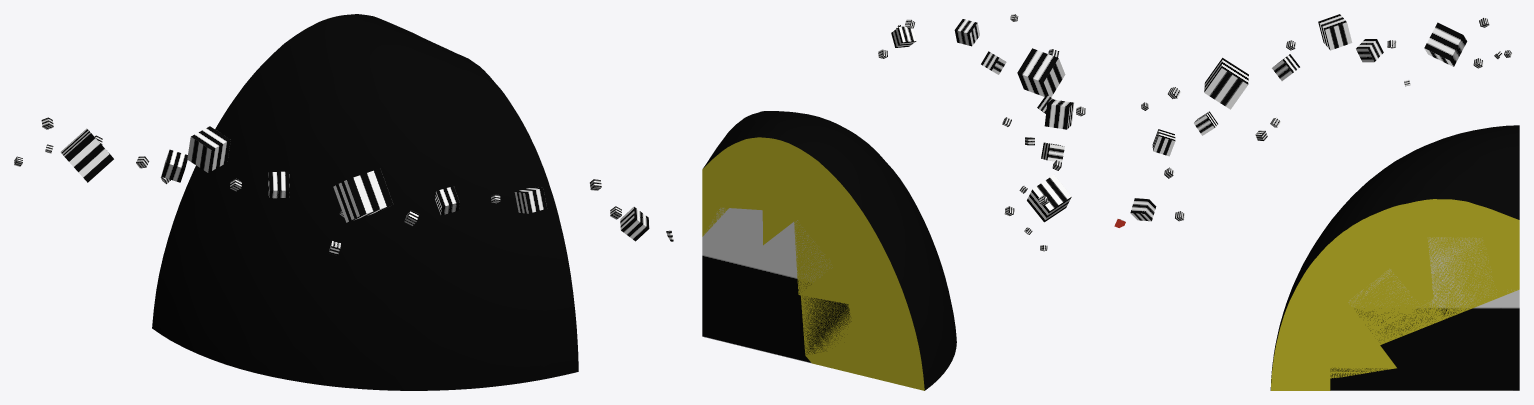
File: SM_Apple_Behind_RT_6.fbx
3 renders of one model, left to right at view 1: azimuth 30°, elevation 25°; view 2: azimuth 150°, elevation 25°; view 3: azimuth 270°, elevation 25°, orthographic. The views are drawn at different scales.
Visible parts, largest first — view 1: apple crater.007, geng.006; view 2: apple crater.007, geng.006; view 3: apple crater.007, geng.006.
Boxes of the visible parts, x1,y1,x2,y2 form: apple crater.007: (152, 14, 578, 390); geng.006: (14, 117, 673, 255); apple crater.007: (702, 111, 956, 390); geng.006: (878, 14, 1085, 251); apple crater.007: (1270, 125, 1519, 390); geng.006: (1114, 14, 1512, 227).
Bounding box in the file's own units: 167 × 111 × 170.
